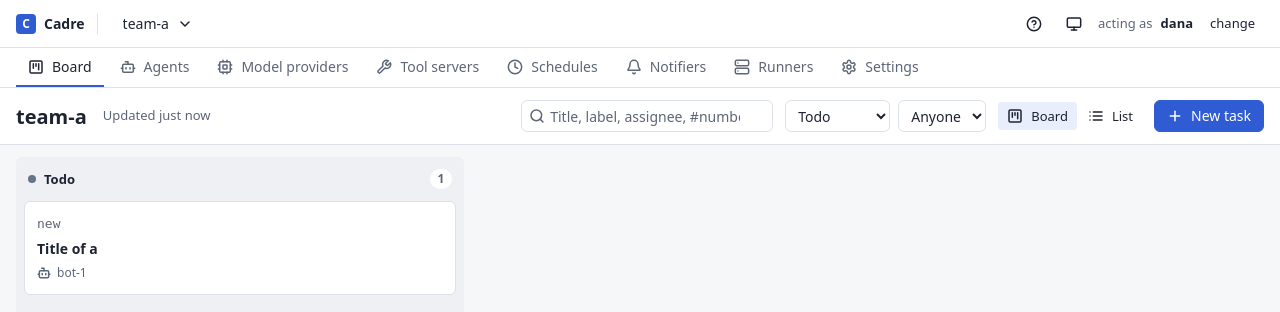
it: Board › reads a phase in any case, and the select clears it
Expected: the link "Title of a" is shown, [37,238,98,258]
Step 1. Select "All phases" in the 1st dropdown named "Phase" → (838, 116), box [785,100,890,132]
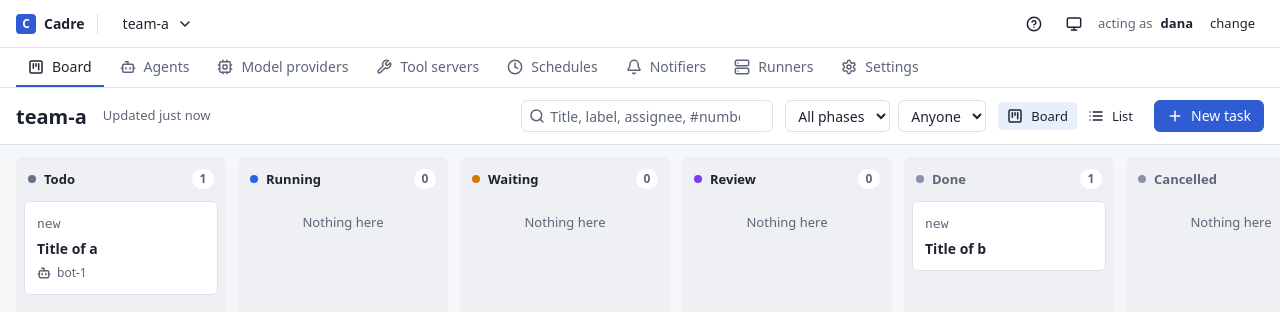
Now the link "Title of b" is shown, box [925,238,986,258]
